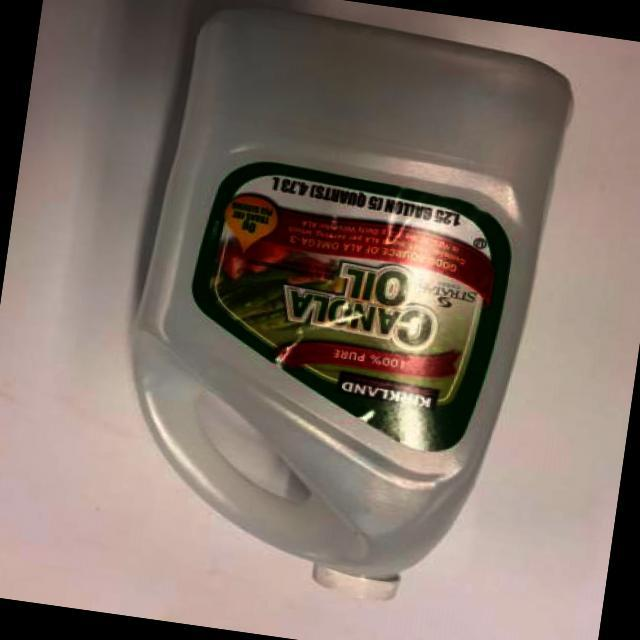HDPE Plastic: (124, 6, 578, 608)
